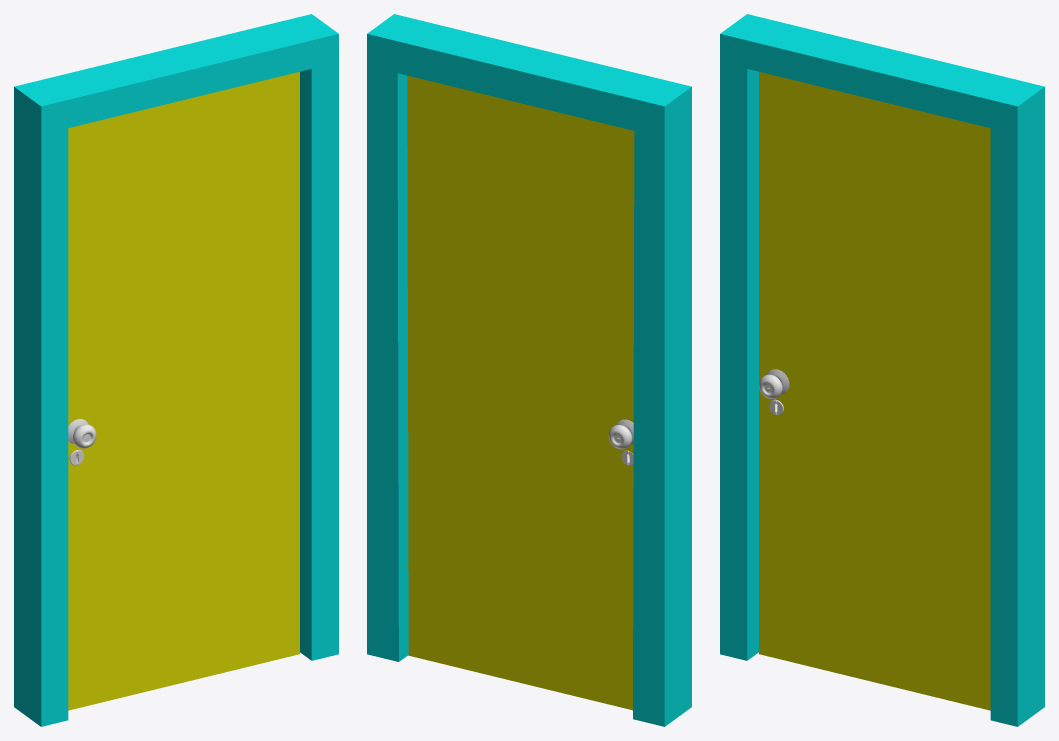
Rendered from door_animatable.fbx.
3 renders of one model, left to right at view 1: azimuth 30°, elevation 25°; view 2: azimuth 150°, elevation 25°; view 3: azimuth 330°, elevation 25°, orthographic.
Visible parts, largest first — view 1: door, frame, handle1; view 2: door, frame, handle1; view 3: door, frame, handle1.
Part boxes in pixels (x1=…): door: x1=68, y1=72, x2=299, y2=710; frame: x1=14, y1=14, x2=338, y2=726; handle1: x1=68, y1=419, x2=96, y2=465; door: x1=407, y1=75, x2=634, y2=710; frame: x1=367, y1=14, x2=691, y2=726; handle1: x1=608, y1=419, x2=633, y2=465; door: x1=759, y1=72, x2=990, y2=710; frame: x1=720, y1=14, x2=1044, y2=726; handle1: x1=759, y1=369, x2=789, y2=415.
Bounding box in the file's own units: 112 × 224 × 17.98.
